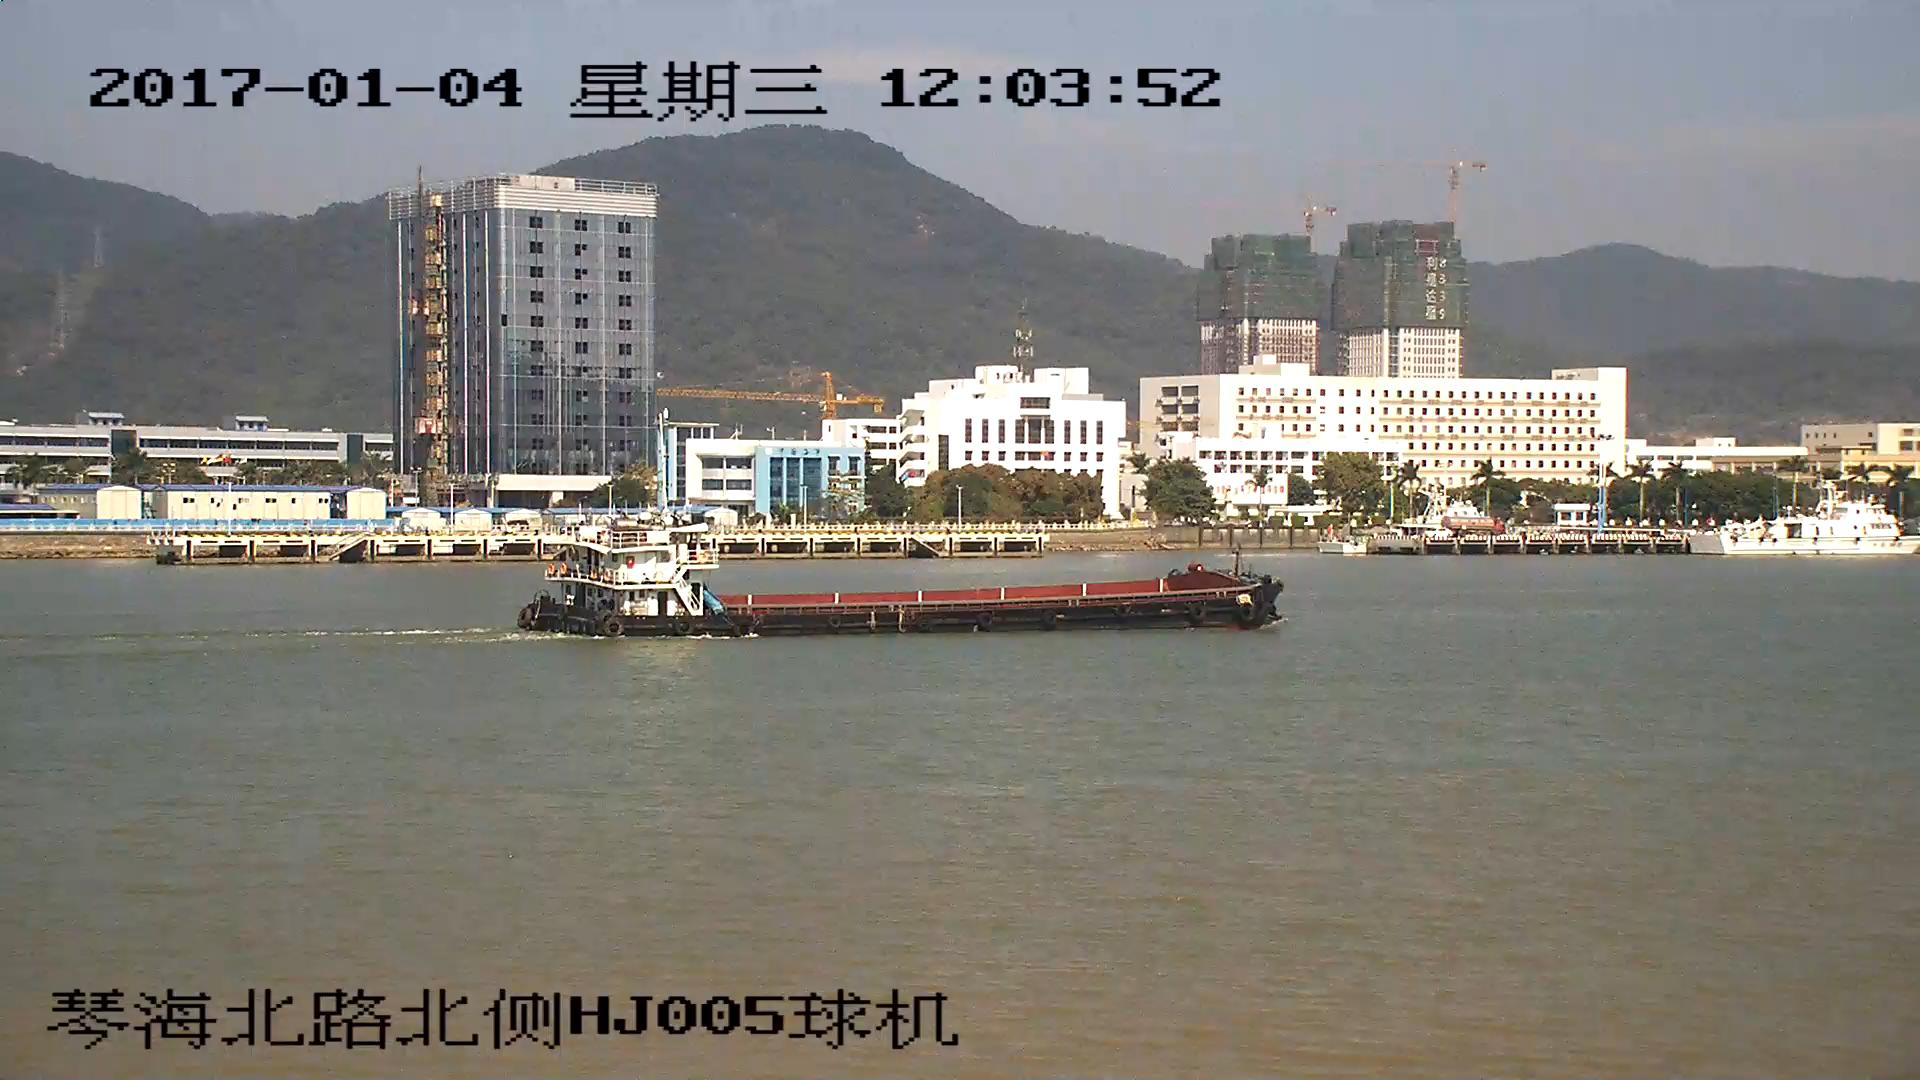general cargo ship: (519, 529, 1283, 638)
